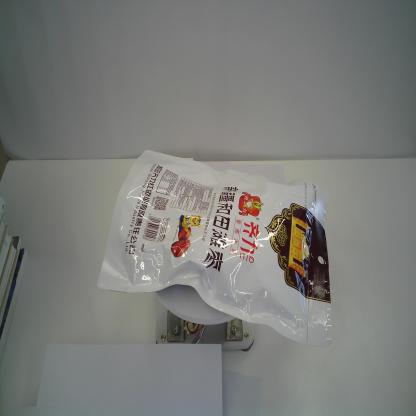Dried Food: (95, 148, 335, 351)
